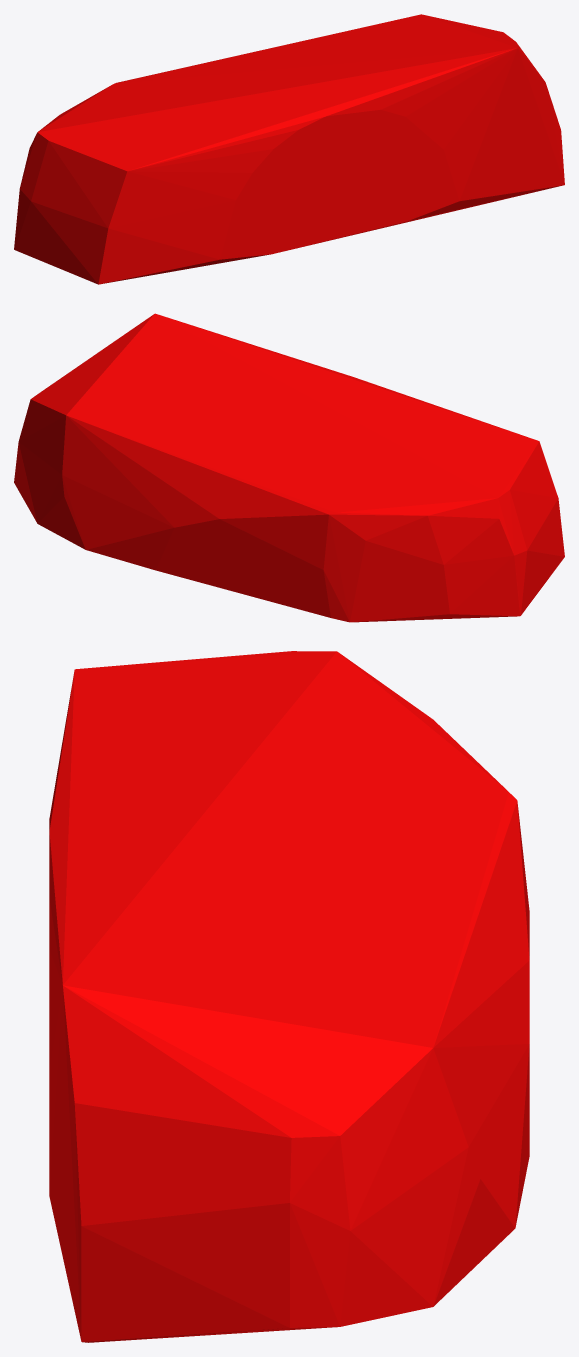
Rendered from tip_006_2_convex_hull_02.obj.
3 renders of one model, top to bottom at view 1: azimuth 30°, elevation 25°; view 2: azimuth 150°, elevation 25°; view 3: azimuth 270°, elevation 25°, orthographic. The views are drawn at different scales.
Parts seen in each view (by area): view 1: tip_006_2_convex_hull_02; view 2: tip_006_2_convex_hull_02; view 3: tip_006_2_convex_hull_02.
Part boxes in pixels (left/top/right/bottom): tip_006_2_convex_hull_02: left=14, top=14, right=564, bottom=284; tip_006_2_convex_hull_02: left=14, top=313, right=564, bottom=622; tip_006_2_convex_hull_02: left=49, top=651, right=529, bottom=1342.
Bounding box in the file's own units: 0.00482 × 0.0014 × 0.00198.
